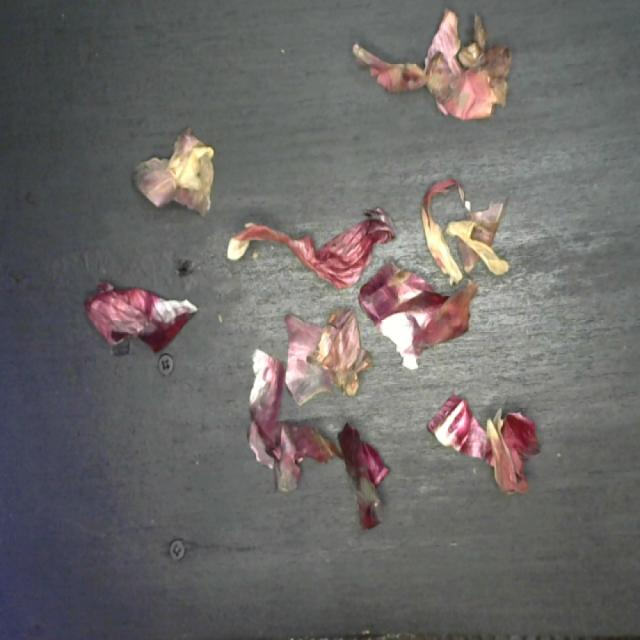biodegradable: (75, 0, 548, 538)
